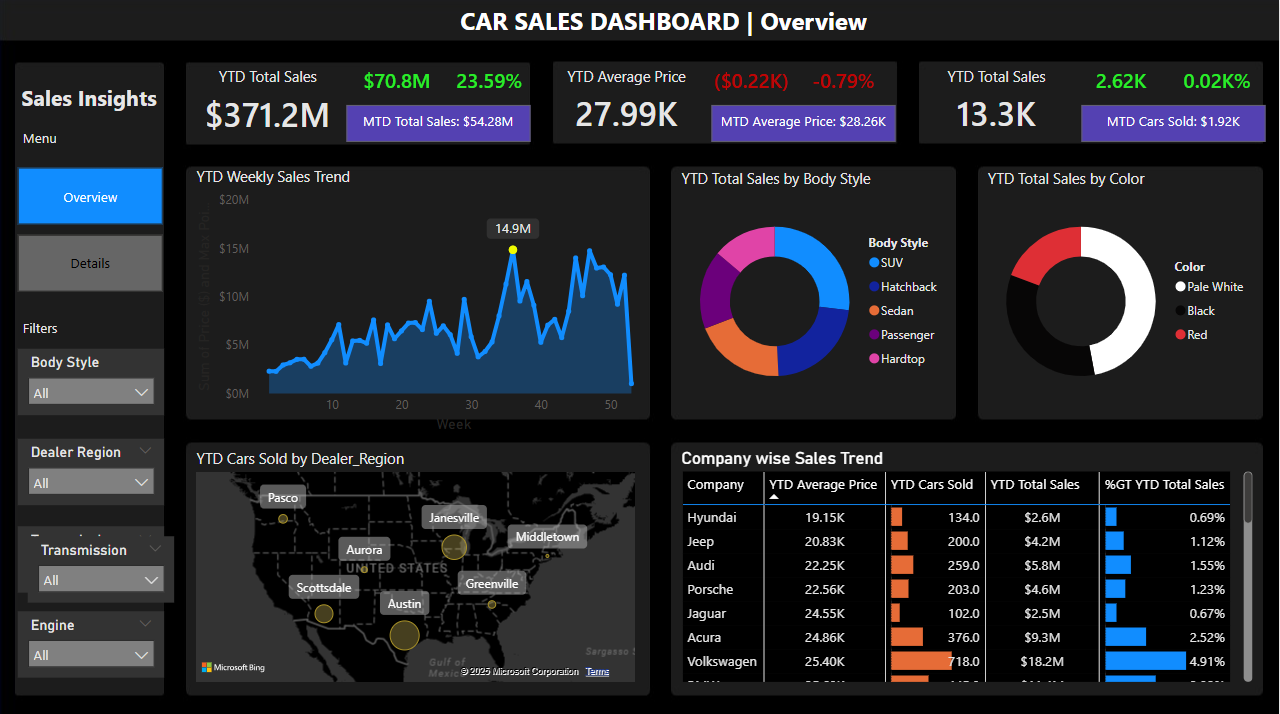

The dashboard page shown, as its layout file describes it:
{"tool":"powerbi","page":{"name":"Overview","canvas":[1280,720],"ordinal":0},"visuals":[{"type":"card","title":"YTD Total Sales","fields":{"Values":["car_data.YTD Total Sales"]},"box":[192.2,66.6,152.5,75.6],"z":0},{"type":"card","fields":{"Values":["car_data.Sales Difference"]},"box":[344.6,66.3,106,31.8],"z":1000},{"type":"card","fields":{"Values":["car_data.YOY Sales Growth"]},"box":[450.6,66.3,80.8,31.8],"z":2000},{"type":"card","fields":{"Values":["car_data.MTD KPI"]},"box":[347.2,104.7,184.2,37.1],"z":3000},{"type":"card","title":"YTD Average Price","fields":{"Values":["car_data.YTD Average Price"]},"box":[551.3,66.3,152.4,75.5],"z":4000},{"type":"card","fields":{"Values":["car_data.Average Price Difference"]},"box":[703.8,66.3,96.7,31.8],"z":5000},{"type":"card","fields":{"Values":["car_data.YOY Average Price Growth"]},"box":[791.2,66.3,106,31.8],"z":6000},{"type":"card","fields":{"Values":["car_data.MTD Average Price KPI"]},"box":[713,104.7,184.2,37.1],"z":7000},{"type":"card","title":"YTD Total Sales","fields":{"Values":["car_data.YTD Cars Sold"]},"box":[921.1,66.3,152.4,75.5],"z":8000},{"type":"card","fields":{"Values":["car_data.Cars Sold Difference"]},"box":[1073.5,66.3,96.7,31.8],"z":9000},{"type":"card","fields":{"Values":["car_data.YOY Car sold Growth"]},"box":[1170.3,66.3,96.7,31.8],"z":10000},{"type":"card","fields":{"Values":["car_data.MTD Cars Sold KPI"]},"box":[1082.8,104.7,184.2,37.1],"z":11000},{"type":"areaChart","title":"YTD Weekly Sales Trend","fields":{"Category":["Calendar Table.Week"],"Y":["Sum(car_data.Price ($))","car_data.Max Point on Area Chart"]},"box":[192.5,166.9,462.1,271.1],"z":12000},{"type":"donutChart","fields":{"Category":["car_data.Body Style"],"Y":["car_data.YTD Total Sales"]},"box":[677.9,167,274.8,248.2],"z":13000},{"type":"donutChart","fields":{"Y":["car_data.YTD Total Sales"],"Category":["car_data.Color"]},"box":[984.1,167,274.8,248.2],"z":14000},{"type":"map","fields":{"Category":["car_data.Dealer_Region"],"Size":["car_data.YTD Cars Sold"]},"box":[192.5,447.9,447.9,239.7],"z":15000},{"type":"tableEx","title":" Company wise Sales Trend","fields":{"Values":["car_data.Company","car_data.YTD Average Price","car_data.YTD Cars Sold","car_data.YTD Total Sales1","car_data.YTD Total Sales"]},"box":[677.9,447.9,581,239.7],"z":16000},{"type":"textbox","box":[456.4,0,464.8,42.4],"z":17000},{"type":"slicer","fields":{"Values":["car_data.Body Style"]},"box":[18.2,348.6,146.5,66.6],"z":18000},{"type":"slicer","fields":{"Values":["car_data.Dealer_Name"]},"box":[19.4,438.2,146.5,66.6],"z":19000},{"type":"slicer","fields":{"Values":["car_data.Transmission"]},"box":[18.2,526.6,146.5,66.6],"z":20000},{"type":"slicer","fields":{"Values":["car_data.Engine"]},"box":[18.2,611.3,146.5,66.6],"z":21000},{"type":"textbox","box":[18.2,313.5,77.5,35.1],"z":22000},{"type":"slicer","fields":{"Values":["car_data.Transmission"]},"box":[28.2,536.6,146.5,66.6],"z":23000},{"type":"textbox","box":[19.4,123.5,53.3,35.1],"z":24000},{"type":"textbox","box":[16.9,77.5,168.3,64.2],"z":25000},{"type":"pageNavigator","box":[18.2,167,145.3,124.7],"z":26000}]}

Visuals, with their boxes on the page's 1280x720 design canvas (x1, y1, x2, y2). These are canvas units, not pixel positions in the 1280x714 screenshot, which may show the page scaled, cropped or inside an application window:
"YTD Total Sales" card: region(192, 67, 345, 142)
card - car_data.Sales Difference: region(345, 66, 451, 98)
card - car_data.YOY Sales Growth: region(451, 66, 531, 98)
card - car_data.MTD KPI: region(347, 105, 531, 142)
"YTD Average Price" card: region(551, 66, 704, 142)
card - car_data.Average Price Difference: region(704, 66, 800, 98)
card - car_data.YOY Average Price Growth: region(791, 66, 897, 98)
card - car_data.MTD Average Price KPI: region(713, 105, 897, 142)
"YTD Total Sales" card: region(921, 66, 1074, 142)
card - car_data.Cars Sold Difference: region(1074, 66, 1170, 98)
card - car_data.YOY Car sold Growth: region(1170, 66, 1267, 98)
card - car_data.MTD Cars Sold KPI: region(1083, 105, 1267, 142)
"YTD Weekly Sales Trend" areaChart: region(192, 167, 655, 438)
donutChart - car_data.Body Style x car_data.YTD Total Sales: region(678, 167, 953, 415)
donutChart - car_data.YTD Total Sales x car_data.Color: region(984, 167, 1259, 415)
map - car_data.Dealer_Region x car_data.YTD Cars Sold: region(192, 448, 640, 688)
" Company wise Sales Trend" tableEx: region(678, 448, 1259, 688)
textbox: region(456, 0, 921, 42)
slicer - car_data.Body Style: region(18, 349, 165, 415)
slicer - car_data.Dealer_Name: region(19, 438, 166, 505)
slicer - car_data.Transmission: region(18, 527, 165, 593)
slicer - car_data.Engine: region(18, 611, 165, 678)
textbox: region(18, 314, 96, 349)
slicer - car_data.Transmission: region(28, 537, 175, 603)
textbox: region(19, 124, 73, 159)
textbox: region(17, 78, 185, 142)
pageNavigator: region(18, 167, 164, 292)
